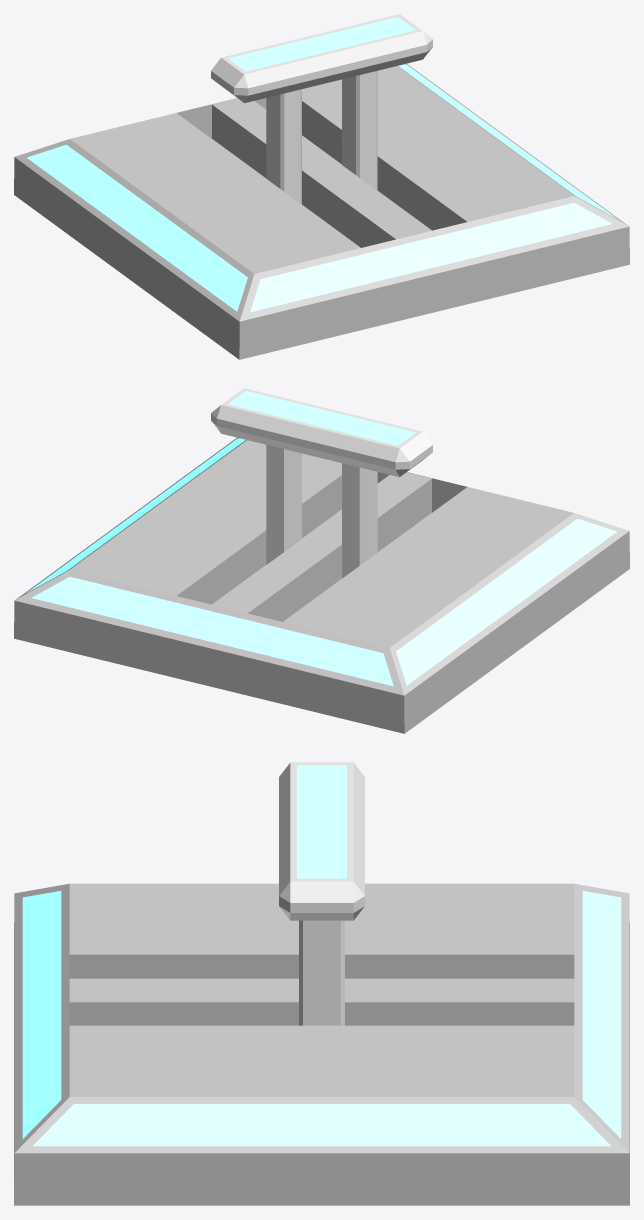
The model's file is flow_controller.fbx.
3 renders of one model, top to bottom at view 1: azimuth 30°, elevation 25°; view 2: azimuth 150°, elevation 25°; view 3: azimuth 270°, elevation 25°, orthographic. The views are drawn at different scales.
Parts seen in each view (by area): view 1: Plane, Plane.004; view 2: Plane, Plane.004; view 3: Plane, Plane.004.
Part boxes in pixels (left/top/right/bottom): Plane: left=14, top=63, right=629, bottom=359; Plane.004: left=211, top=14, right=432, bottom=204; Plane: left=14, top=437, right=629, bottom=733; Plane.004: left=211, top=388, right=432, bottom=578; Plane: left=14, top=883, right=629, bottom=1205; Plane.004: left=279, top=762, right=364, bottom=1025.
Bounding box in the file's own units: 159 × 72.07 × 159.
